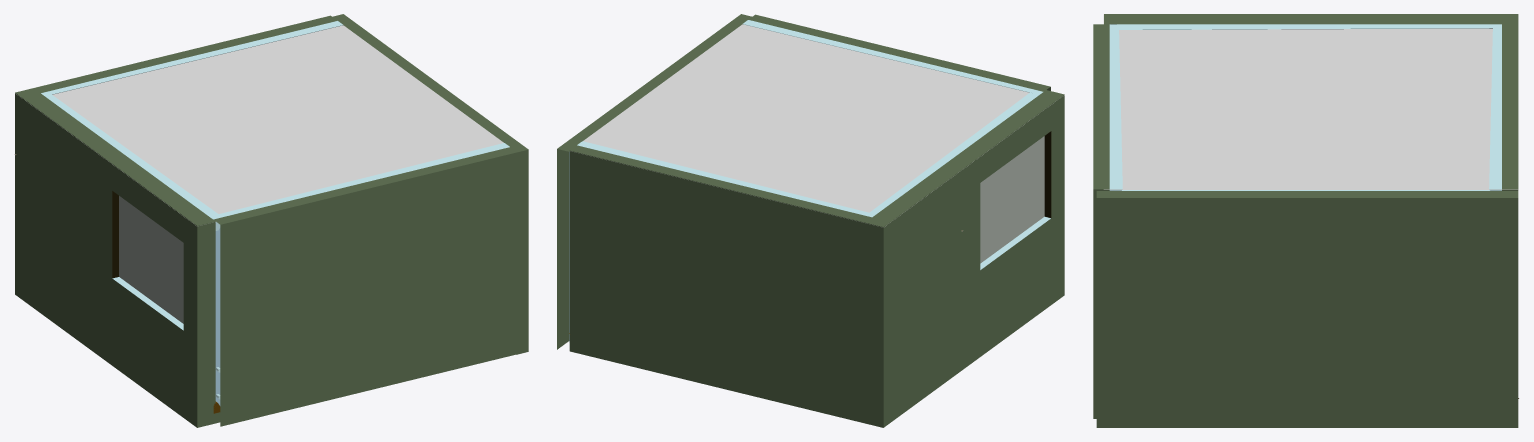
File: room_v2-transformed.glb
The picture shows the model from 3 angles, left to right: view 1: azimuth 30°, elevation 25°; view 2: azimuth 150°, elevation 25°; view 3: azimuth 270°, elevation 25°; orthographic projection. The views are drawn at different scales.
Visible parts, largest first — view 1: Wall.003, Roof, Low poly living room, Window, Wall.001, Wall.002; view 2: Wall.002, Roof, Low poly living room, Window, Wall.001, Wall.003; view 3: Wall.001, Roof, Low poly living room, Wall.003, Wall.002.
Boxes of the visible parts, x1,y1,x2,y2 form: Wall.003: (213,143,517,426); Roof: (15,25,503,225); Low poly living room: (15,88,220,427); Window: (119,196,183,323); Wall.001: (332,14,528,354); Wall.002: (34,15,343,94); Wall.002: (569,141,871,423); Roof: (583,24,1064,226); Low poly living room: (865,90,1064,427); Window: (980,136,1044,263); Wall.001: (557,14,751,349); Wall.003: (743,14,1050,92); Wall.001: (1096,190,1518,427); Roof: (1103,14,1518,189); Low poly living room: (1104,14,1518,29); Wall.003: (1093,24,1122,418); Wall.002: (1489,24,1518,190).
Bounding box in the file's own units: 467 × 247 × 411.
Materials: 24 (18 with a texture image).
